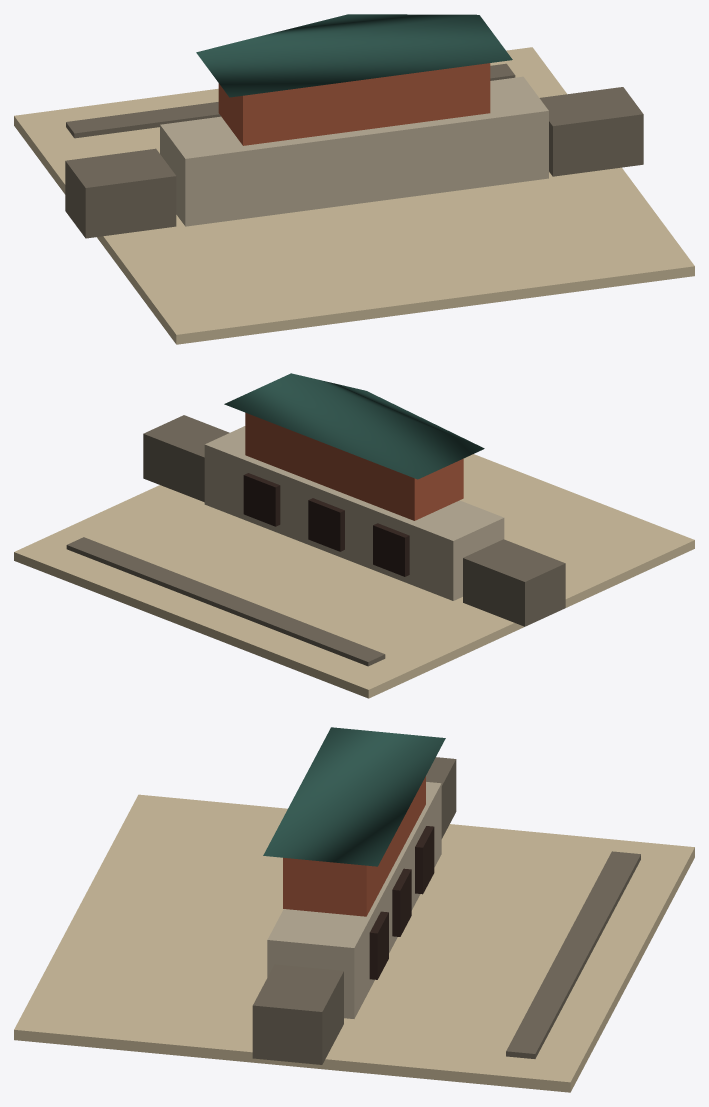
File: model-medium.glb
3 views of the same model, one above another, from view 1: azimuth 30°, elevation 25°; view 2: azimuth 150°, elevation 25°; view 3: azimuth 270°, elevation 25° (orthographic). The views are drawn at different scales.
Visible parts, largest first — view 1: context_site_plinth, city_gate_platform, gatehouse_roof, side_wall_segment (×2), upper_gatehouse_body, front_scale_strip; view 2: context_site_plinth, city_gate_platform, gatehouse_roof, side_wall_segment (×2), upper_gatehouse_body, front_scale_strip, arched_gate_opening (×3); view 3: context_site_plinth, gatehouse_roof, city_gate_platform, side_wall_segment (×2), front_scale_strip, upper_gatehouse_body, arched_gate_opening (×3).
Part boxes in pixels (bbox=[...]): context_site_plinth: bbox=[14, 47, 694, 344]; city_gate_platform: bbox=[160, 76, 548, 226]; gatehouse_roof: bbox=[196, 14, 512, 97]; side_wall_segment (×2): bbox=[65, 87, 643, 238]; upper_gatehouse_body: bbox=[218, 63, 490, 145]; front_scale_strip: bbox=[66, 63, 515, 138]; context_site_plinth: bbox=[14, 454, 694, 698]; city_gate_platform: bbox=[204, 426, 504, 600]; gatehouse_roof: bbox=[224, 373, 484, 479]; side_wall_segment (×2): bbox=[143, 415, 565, 626]; upper_gatehouse_body: bbox=[245, 412, 463, 520]; front_scale_strip: bbox=[66, 537, 385, 666]; arched_gate_opening (×3): bbox=[243, 473, 409, 576]; context_site_plinth: bbox=[14, 794, 694, 1092]; gatehouse_roof: bbox=[263, 727, 445, 866]; city_gate_platform: bbox=[267, 782, 441, 1018]; side_wall_segment (×2): bbox=[252, 757, 456, 1064]; front_scale_strip: bbox=[506, 851, 640, 1058]; upper_gatehouse_body: bbox=[283, 776, 425, 916]; arched_gate_opening (×3): bbox=[369, 826, 434, 979].
Size of the model in its own units: 9.55 by 2.9 by 9.55.
